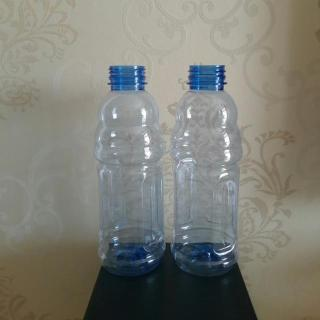Anorganik: (169, 60, 247, 276), (94, 59, 166, 277)
